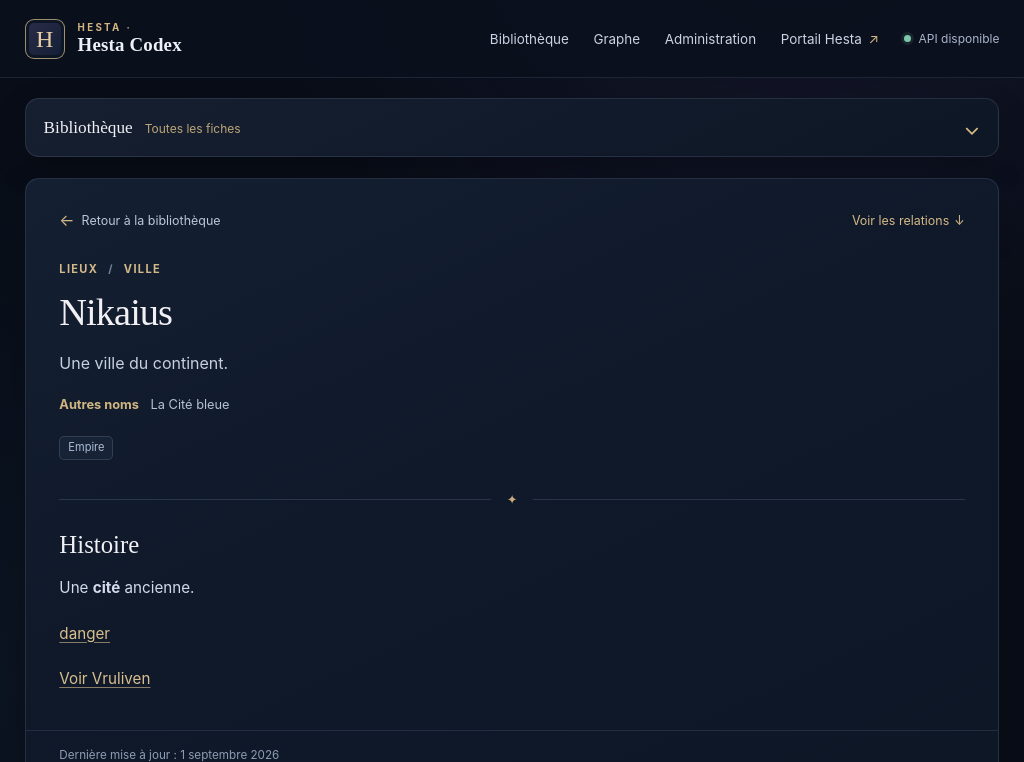
Test: consultation publique › ouvre un lien de fiche écrit dans le Markdown sans recharger la page
Click the link "Voir Vruliven": (105, 678) [59,669,150,688]
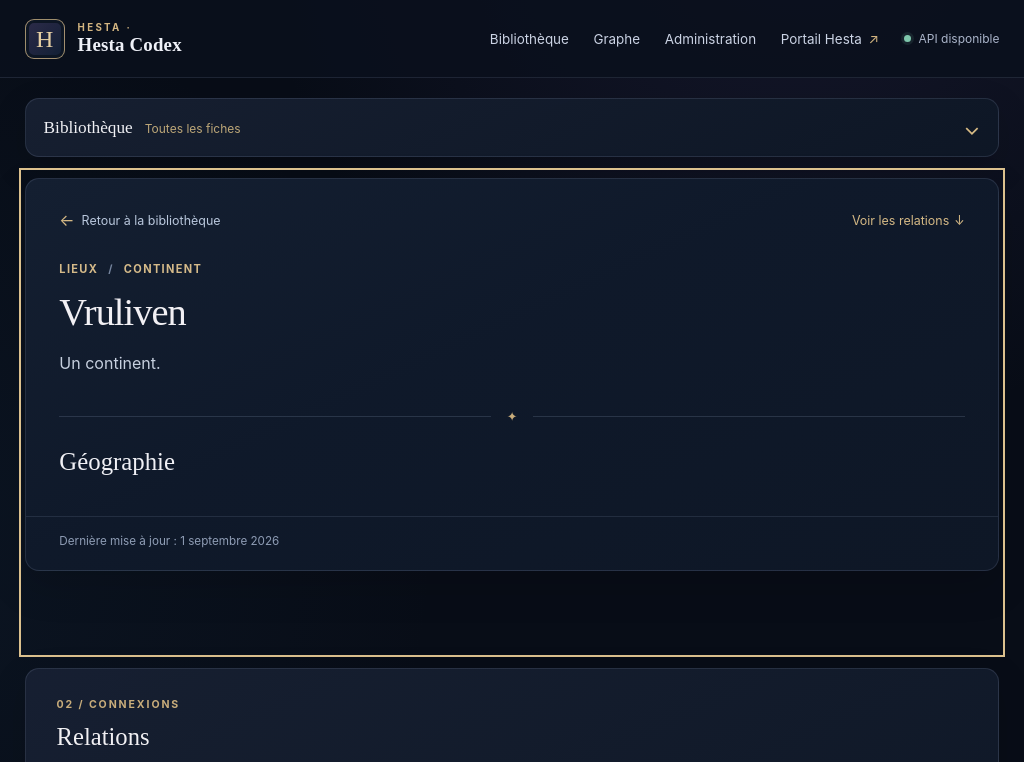
Expected: the heading "Vruliven" is shown, [59,291,186,333]
